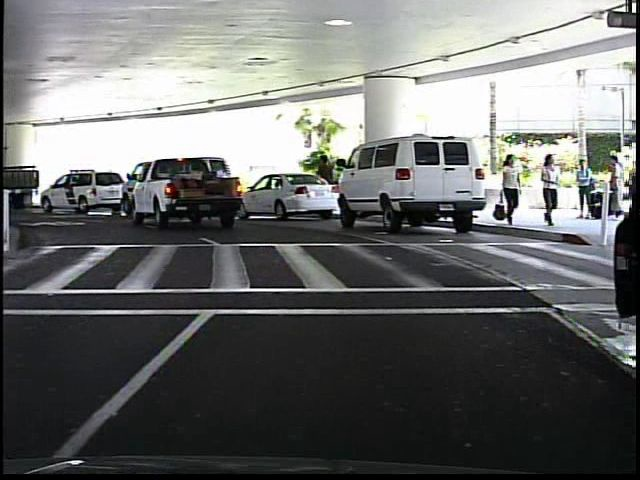person: (538, 153, 566, 232), (498, 151, 524, 227), (572, 159, 599, 228), (604, 153, 627, 221), (317, 152, 339, 212)
